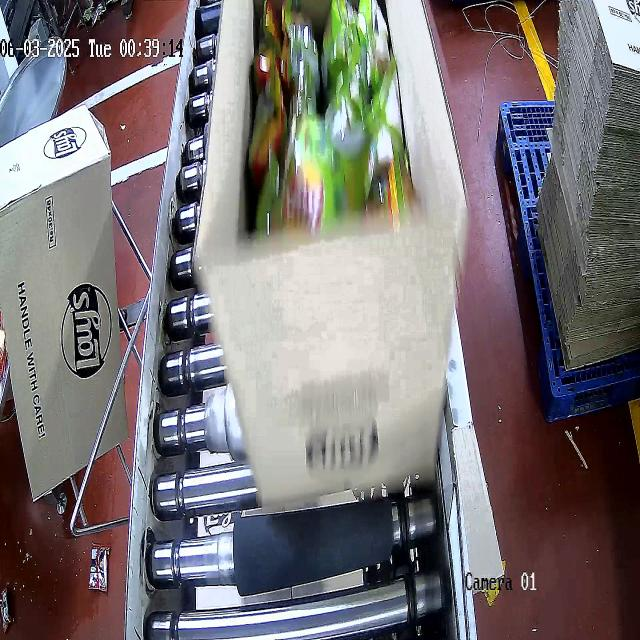YOGURT_HERB: (243, 2, 415, 226)
